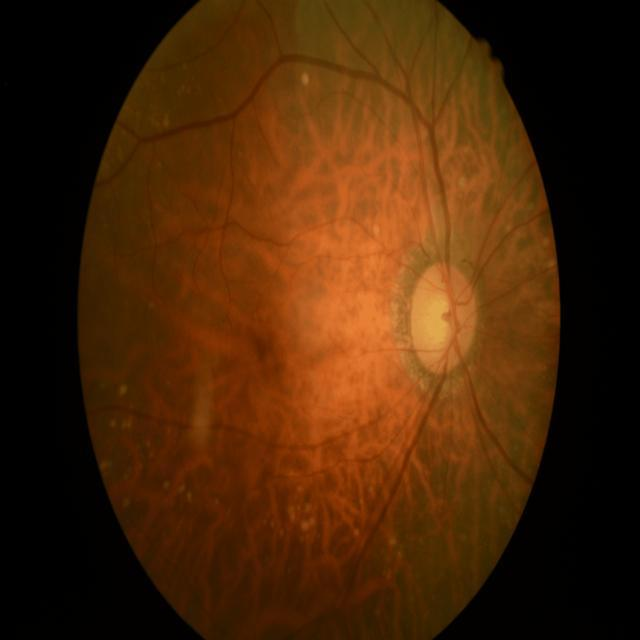cup: (421, 292, 463, 352)
disk: (410, 261, 478, 378)
